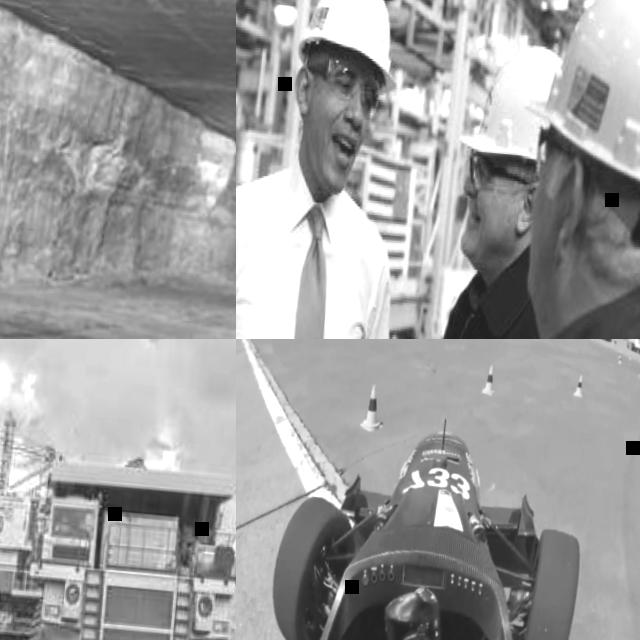Hardhat: (514, 0, 640, 196), (456, 37, 564, 161), (292, 0, 408, 93)
NO-Mask: (298, 98, 365, 196), (521, 170, 563, 306), (459, 191, 521, 267)
NO-Safety Vest: (236, 164, 389, 339), (397, 270, 540, 339)
Person: (236, 0, 434, 339), (454, 0, 640, 339), (373, 28, 566, 339)
Safety Cone: (359, 381, 389, 434), (480, 363, 496, 398), (574, 373, 588, 397), (616, 352, 623, 365), (637, 364, 640, 380), (629, 350, 633, 361)
vehicle: (251, 404, 621, 640), (17, 444, 236, 640), (0, 397, 64, 640), (625, 339, 640, 352)
